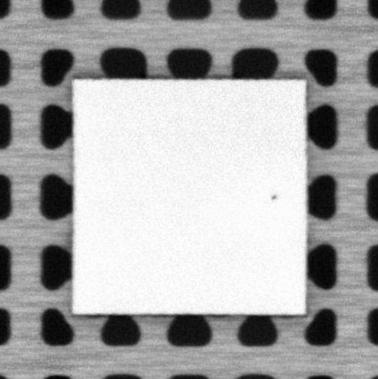DIE_INK: (268, 191, 280, 202)
